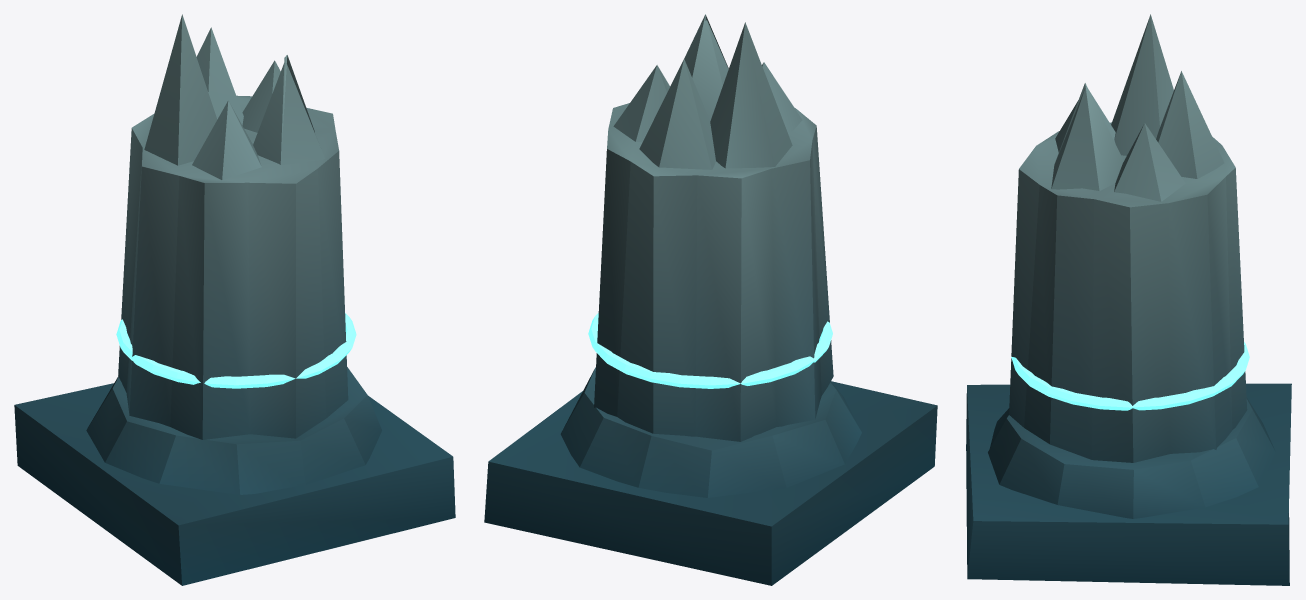
The model's file is ruin_pillar_broken.glb.
3 views of the same model, side by side, from view 1: azimuth 30°, elevation 25°; view 2: azimuth 150°, elevation 25°; view 3: azimuth 270°, elevation 25° (orthographic). The views are drawn at different scales.
Visible parts, largest first — view 1: ruin_pillar_broken_stone, ruin_pillar_broken_glow; view 2: ruin_pillar_broken_stone, ruin_pillar_broken_glow; view 3: ruin_pillar_broken_stone, ruin_pillar_broken_glow.
Boxes of the visible parts, bbox=[...] form: ruin_pillar_broken_stone: bbox=[14, 14, 455, 585]; ruin_pillar_broken_glow: bbox=[116, 313, 356, 388]; ruin_pillar_broken_stone: bbox=[484, 14, 937, 585]; ruin_pillar_broken_glow: bbox=[588, 313, 832, 388]; ruin_pillar_broken_stone: bbox=[966, 14, 1291, 585]; ruin_pillar_broken_glow: bbox=[1011, 342, 1249, 410].
Size of the model in its own units: 2.18 by 3.56 by 2.18.
